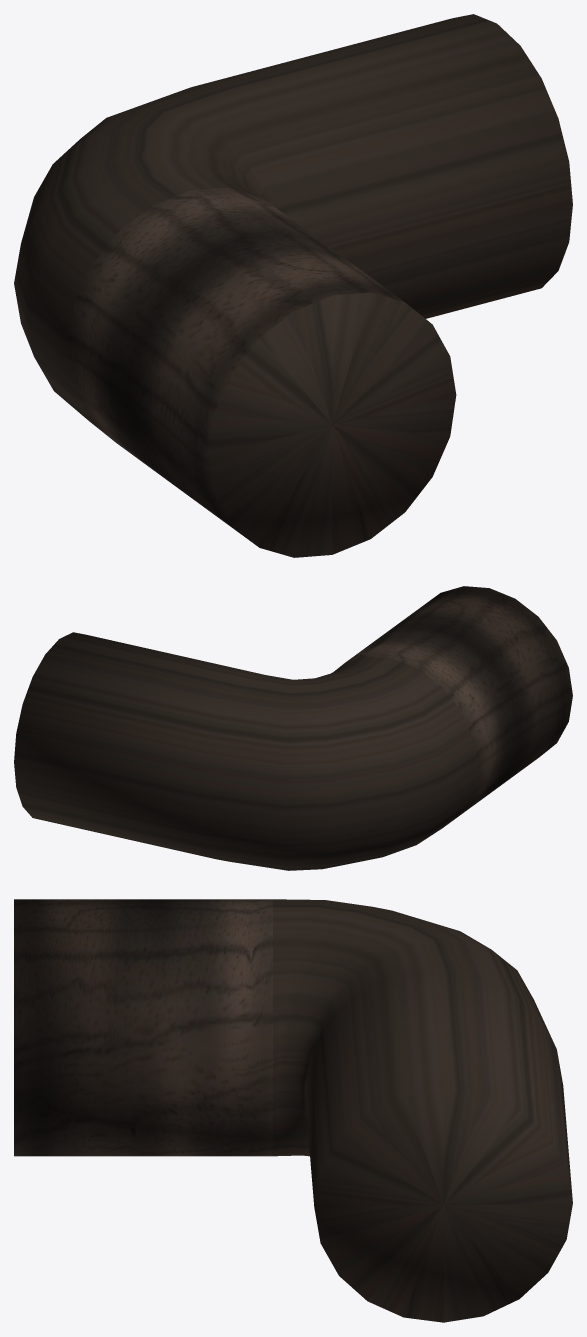
Rendered from slope_2.fbx.
3 views of the same model, one above another, from view 1: azimuth 30°, elevation 25°; view 2: azimuth 150°, elevation 25°; view 3: azimuth 270°, elevation 25° (orthographic). The views are drawn at different scales.
Visible parts, largest first — view 1: obj1_001; view 2: obj1_001; view 3: obj1_001.
Boxes of the visible parts, box(x1,y1,x2,y2) form: obj1_001: box(14, 14, 572, 557); obj1_001: box(14, 586, 572, 870); obj1_001: box(14, 899, 572, 1322).
Bounding box in the file's own units: 4.28 × 2 × 4.32.
Materials: 1 (1 with a texture image).
